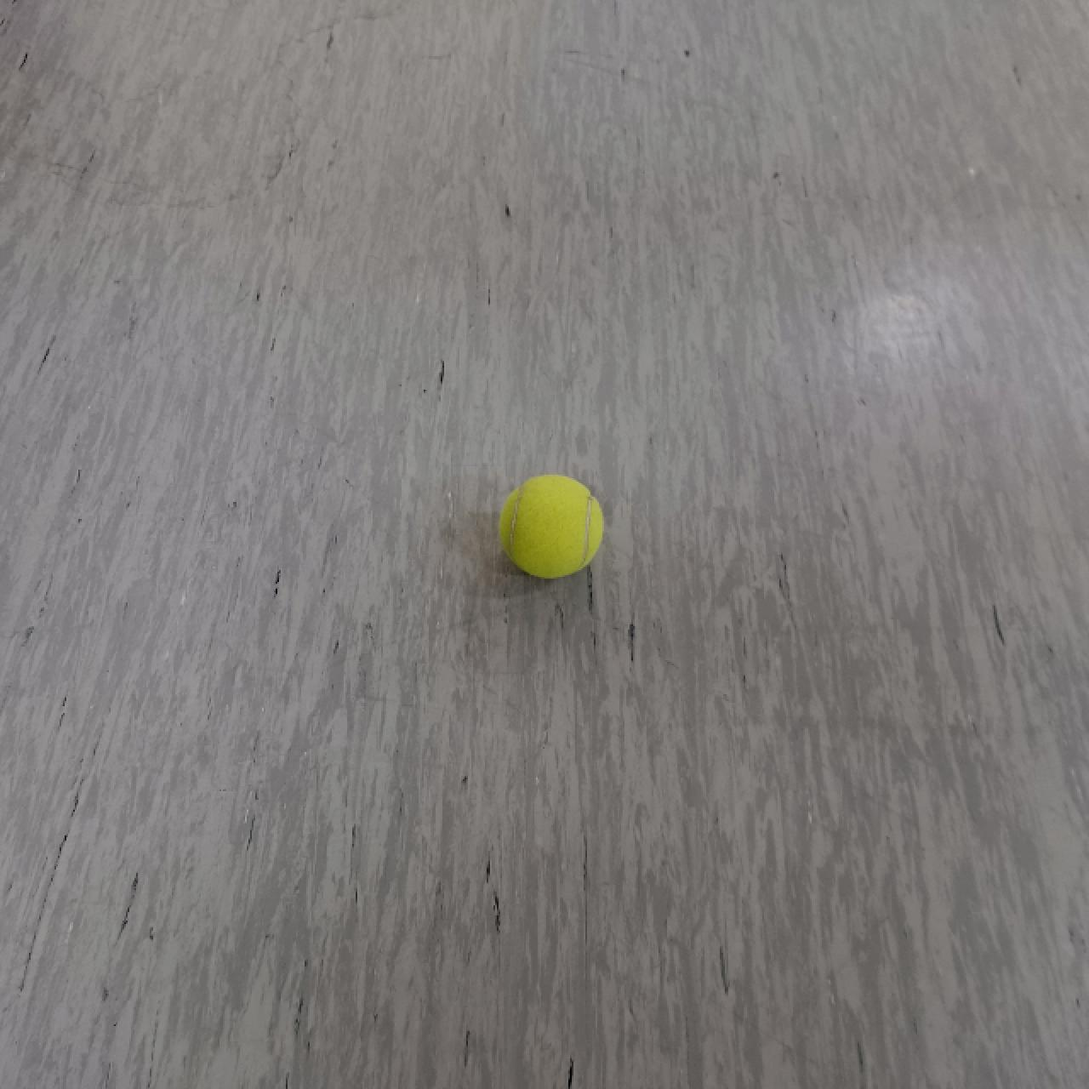tennis-ball: (497, 470, 602, 579)
